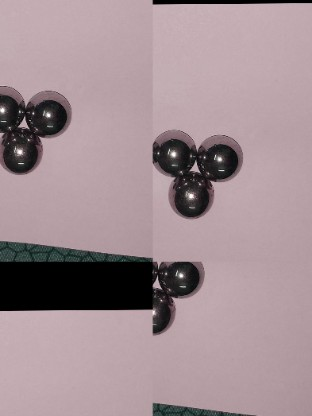ironball: (26, 83, 79, 140), (165, 173, 219, 223), (146, 122, 205, 167), (199, 130, 247, 181), (155, 261, 211, 300), (2, 130, 43, 180), (152, 288, 184, 335), (0, 78, 26, 130)
